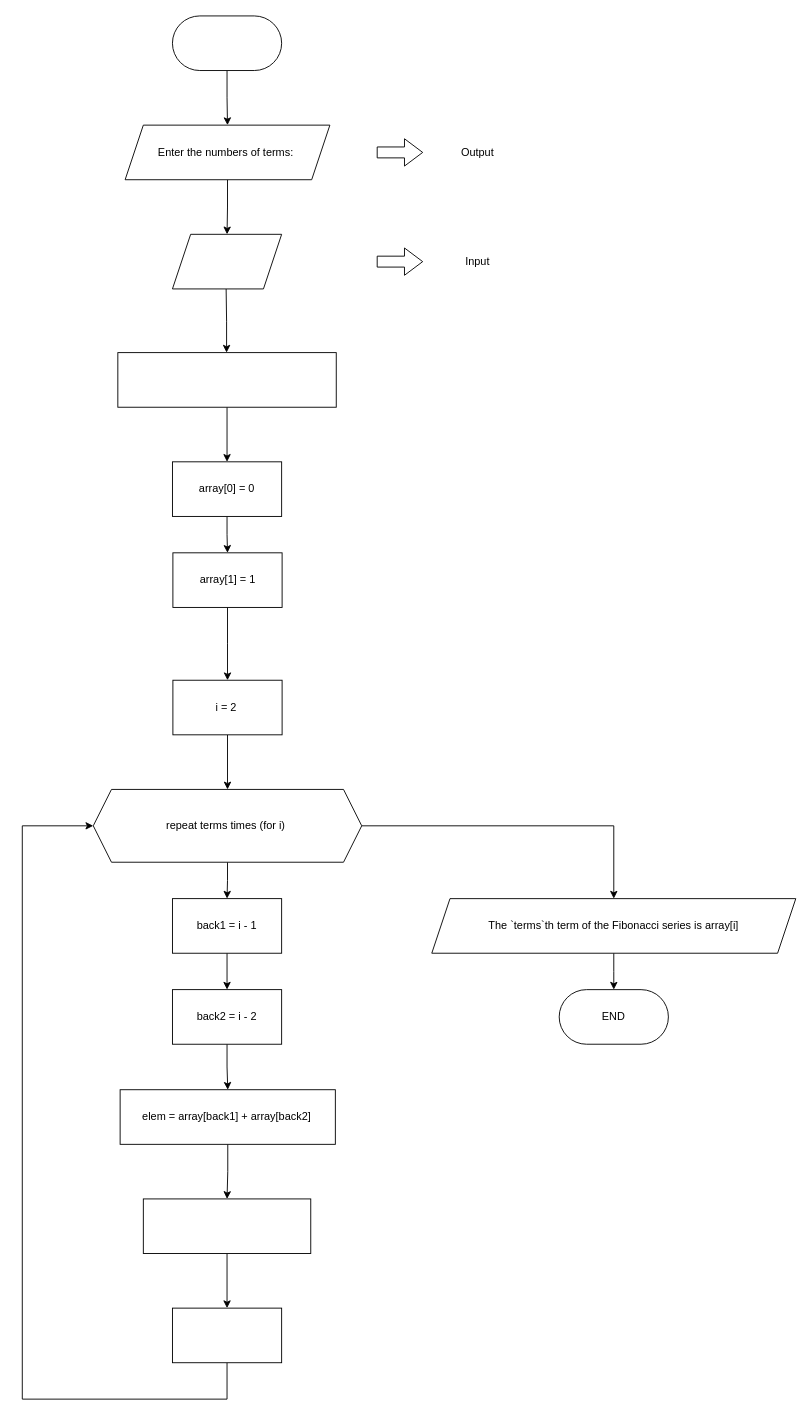
Image size: 812x1422. Some labels were removed from this diagram. The centre of each missing label's shape, as x and y in pixels:
"array <- elmpty list with length `terms`" belongs at point (226, 379).
"array[i] = elem" belongs at point (226, 1226).
"i = i + 1" belongs at point (227, 1335).
"Main" belongs at point (227, 43).
"terms" belongs at point (227, 261).
